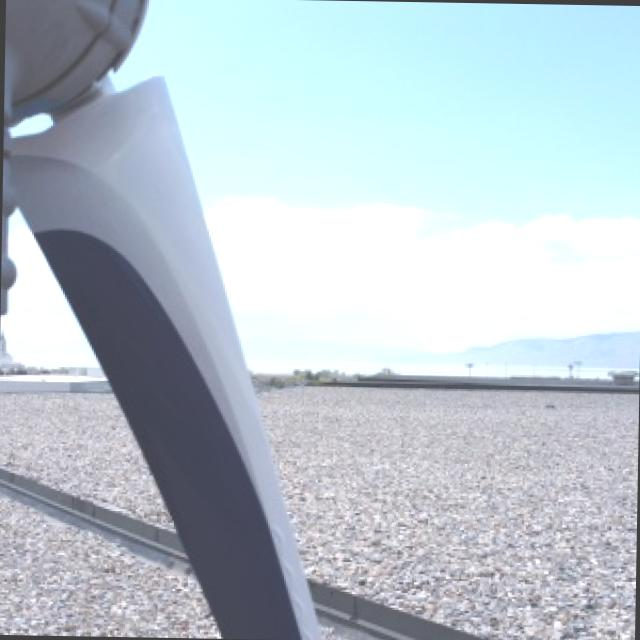healthy: (0, 0, 314, 638)
